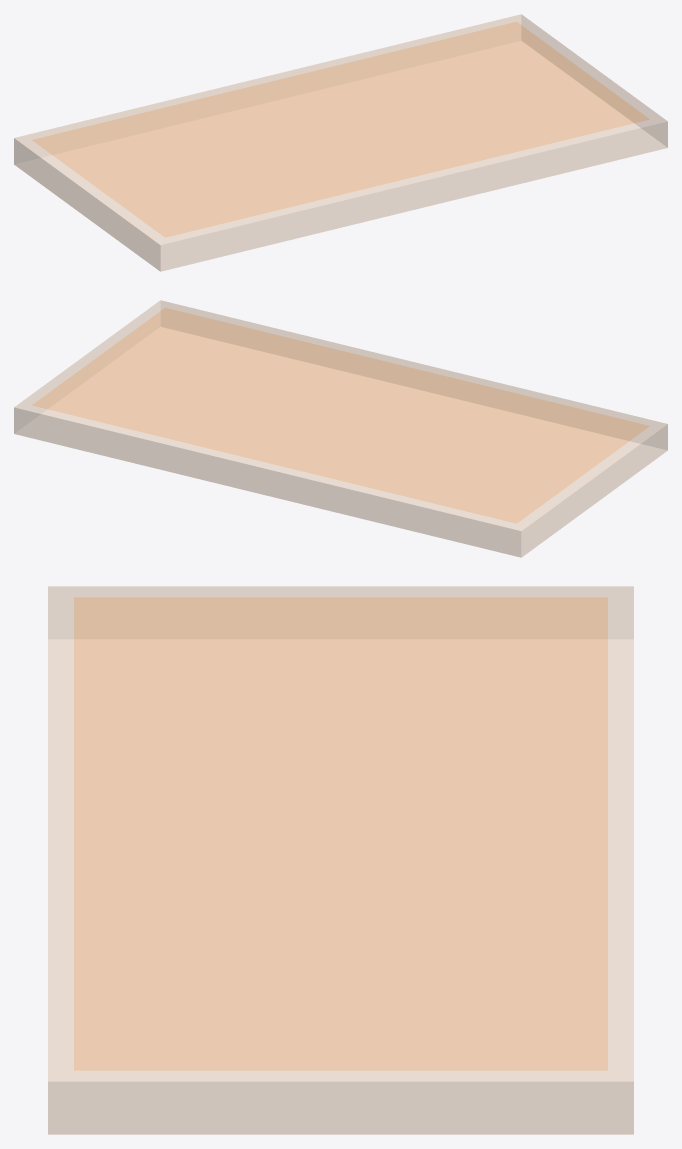
Rendered from boostPanel.glb.
The picture shows the model from 3 angles, top to bottom: view 1: azimuth 30°, elevation 25°; view 2: azimuth 150°, elevation 25°; view 3: azimuth 270°, elevation 25°; orthographic projection. The views are drawn at different scales.
Visible parts, largest first — view 1: Boost Panel; view 2: Boost Panel; view 3: Boost Panel.
Boxes of the visible parts, <box> form: Boost Panel: <box>14,14,667,271</box>; Boost Panel: <box>14,300,667,557</box>; Boost Panel: <box>48,586,633,1134</box>.
Bounding box in the file's own units: 4 × 0.2 × 2.
1 material, 1 textured.
